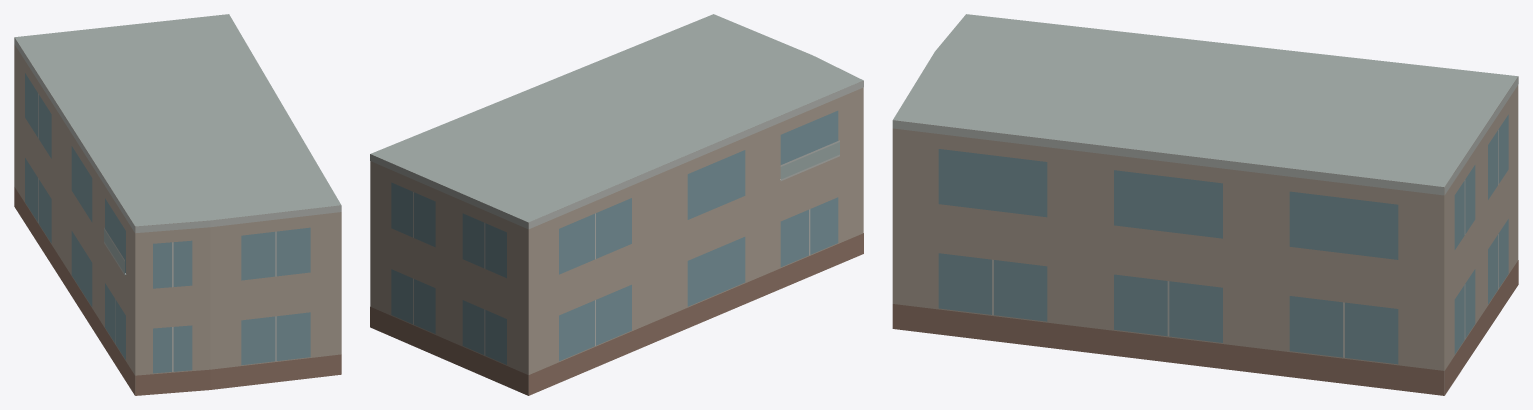
The model's file is survey-upis-32953261.glb.
3 views of the same model, side by side, from view 1: azimuth 30°, elevation 25°; view 2: azimuth 150°, elevation 25°; view 3: azimuth 270°, elevation 25° (orthographic). The views are drawn at different scales.
Parts seen in each view (by area): view 1: survey-upis-32953261.tmp; view 2: survey-upis-32953261.tmp; view 3: survey-upis-32953261.tmp.
Boxes of the visible parts, box(x1,y1,x2,y2) form: survey-upis-32953261.tmp: box(14, 14, 341, 395); survey-upis-32953261.tmp: box(370, 14, 863, 395); survey-upis-32953261.tmp: box(892, 14, 1518, 395).
Bounding box in the file's own units: 10.86 × 6.1 × 16.58.
